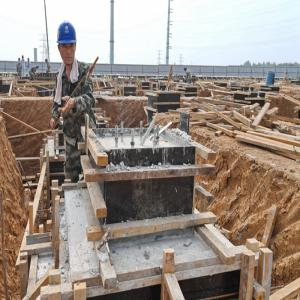blue: (56, 20, 78, 67), (184, 66, 188, 73), (46, 59, 49, 65), (37, 65, 40, 70), (19, 58, 21, 63)
red: (22, 56, 25, 61), (28, 58, 31, 63)
